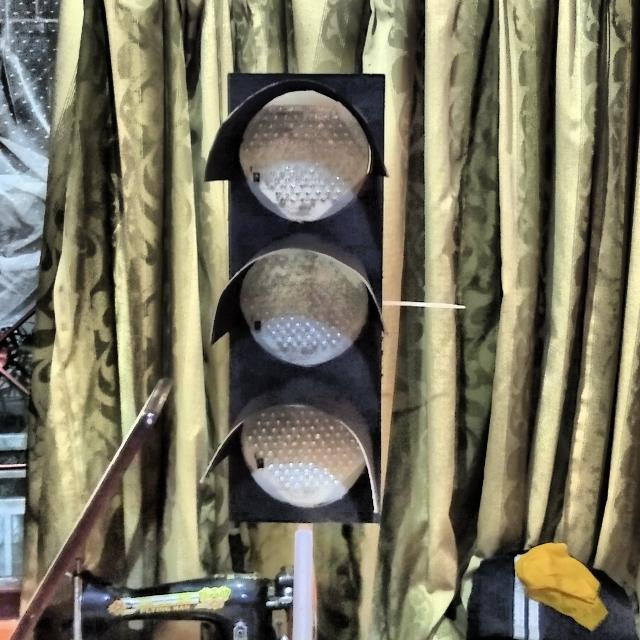yellow: (205, 72, 385, 518)
